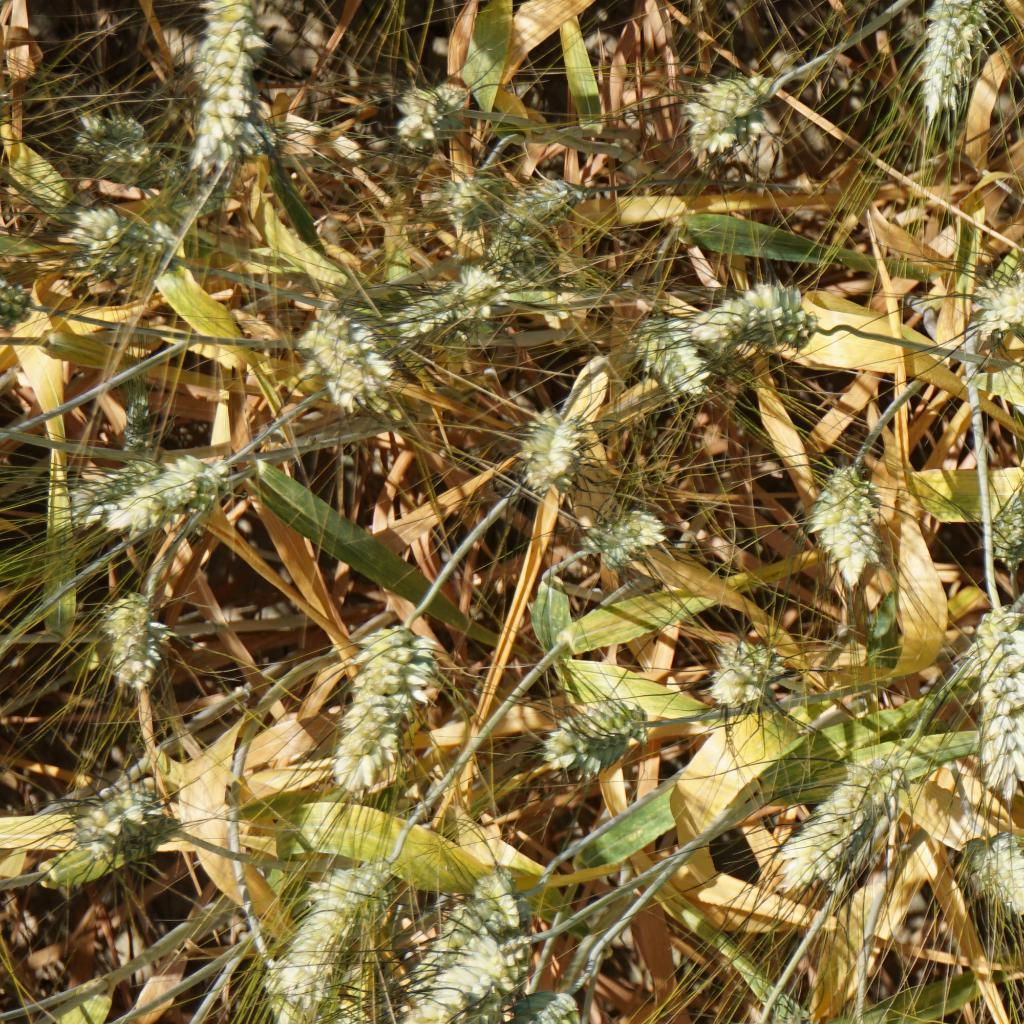0-0: (273, 858, 388, 1016), (775, 756, 900, 888), (332, 624, 427, 791), (664, 67, 804, 175), (963, 592, 1024, 797), (58, 439, 220, 514), (179, 72, 289, 181), (291, 289, 391, 407), (547, 677, 655, 783), (57, 763, 181, 854), (65, 200, 185, 291), (405, 927, 515, 1024), (911, 0, 982, 137), (807, 449, 876, 581), (390, 260, 512, 332), (640, 309, 728, 407), (419, 860, 512, 949), (702, 628, 787, 710), (584, 500, 683, 570), (92, 582, 163, 679), (70, 100, 159, 173), (179, 0, 263, 76), (709, 287, 821, 344), (490, 171, 579, 242), (444, 157, 518, 242), (961, 815, 1024, 913), (953, 262, 1024, 346), (509, 411, 586, 484), (507, 963, 594, 1024), (974, 472, 1024, 574), (376, 78, 458, 139)
